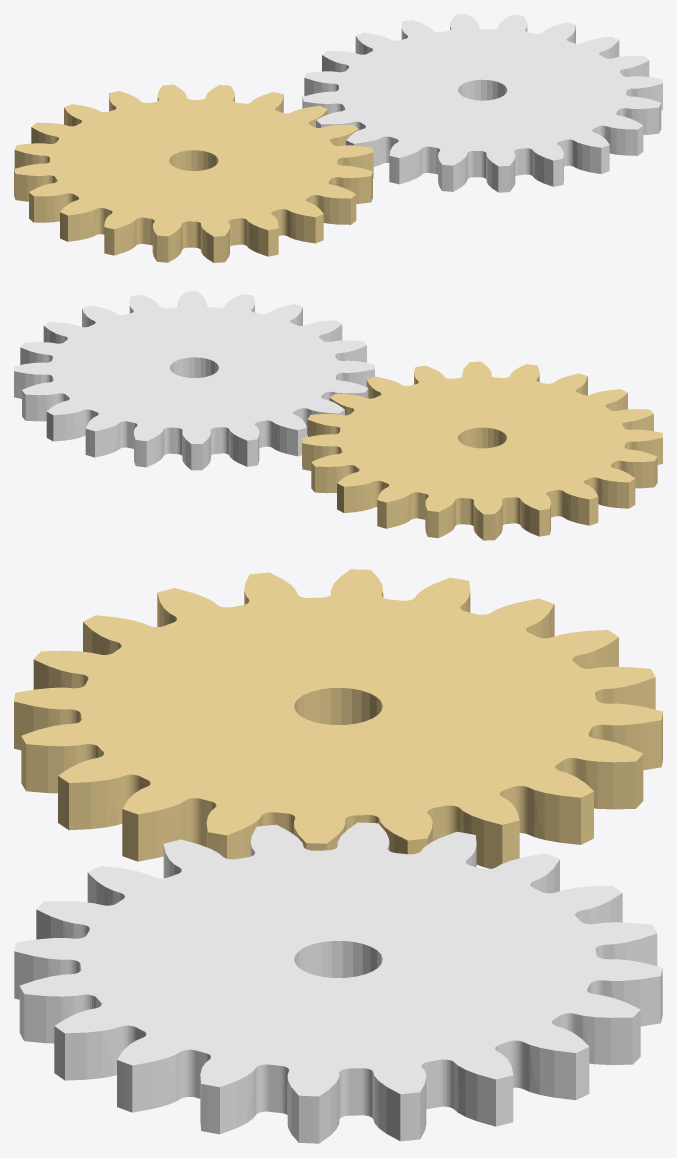
Rendered from gear16_2gear.gltf.
3 views of the same model, one above another, from view 1: azimuth 30°, elevation 25°; view 2: azimuth 150°, elevation 25°; view 3: azimuth 270°, elevation 25° (orthographic). The views are drawn at different scales.
Visible parts, largest first — view 1: Gear01, Gear01.001; view 2: Gear01, Gear01.001; view 3: Gear01.001, Gear01.
Boxes of the visible parts, <box> form: Gear01: <box>14,84,373,262</box>; Gear01.001: <box>302,14,662,192</box>; Gear01: <box>302,361,662,540</box>; Gear01.001: <box>14,291,374,470</box>; Gear01.001: <box>14,822,662,1143</box>; Gear01: <box>14,569,662,868</box>.
Bounding box in the file's own units: 42.25 × 1.76 × 21.99.
